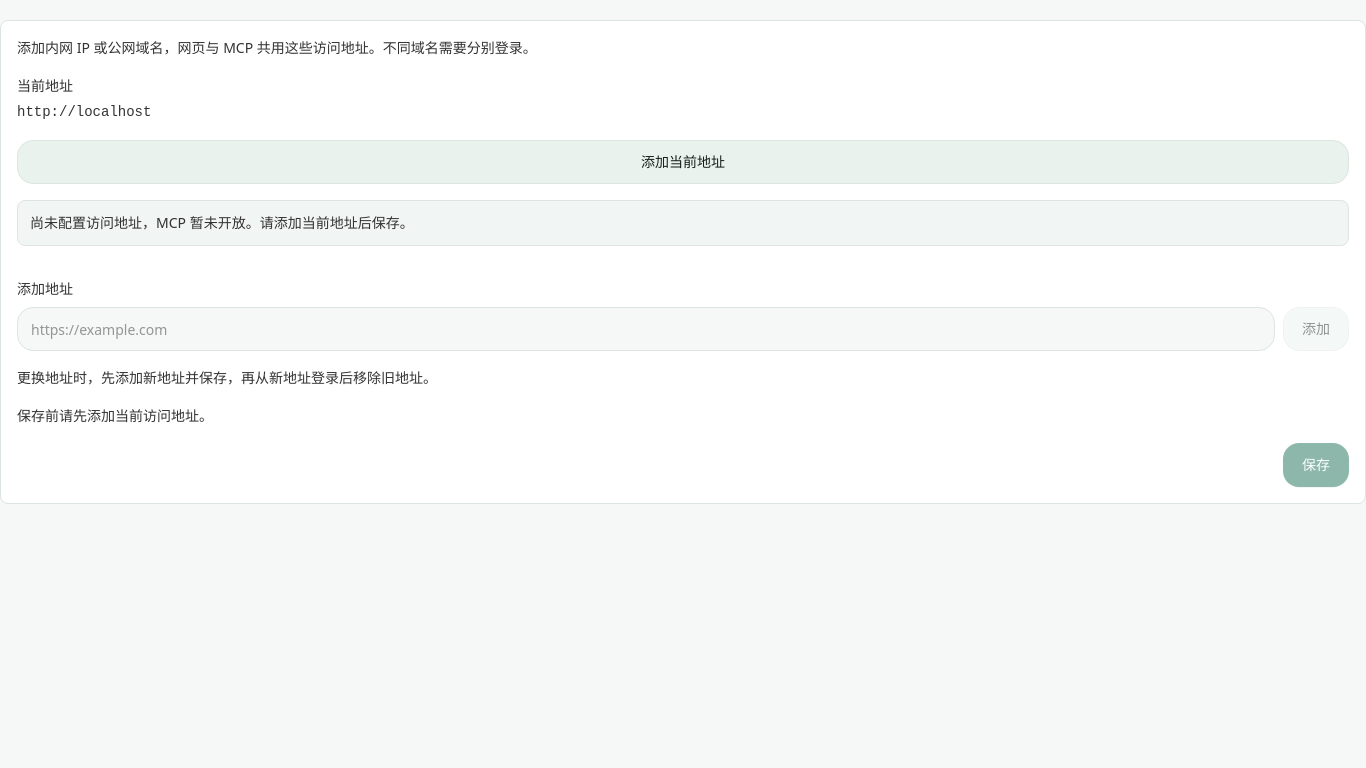
Scenario: 访问地址编辑 › 版本冲突不丢输入，显式重新载入后才替换草稿
The width and height of the screenshot is (1366, 768).
Click the button "添加当前地址".
click(683, 162)  # box [17,140,1349,184]
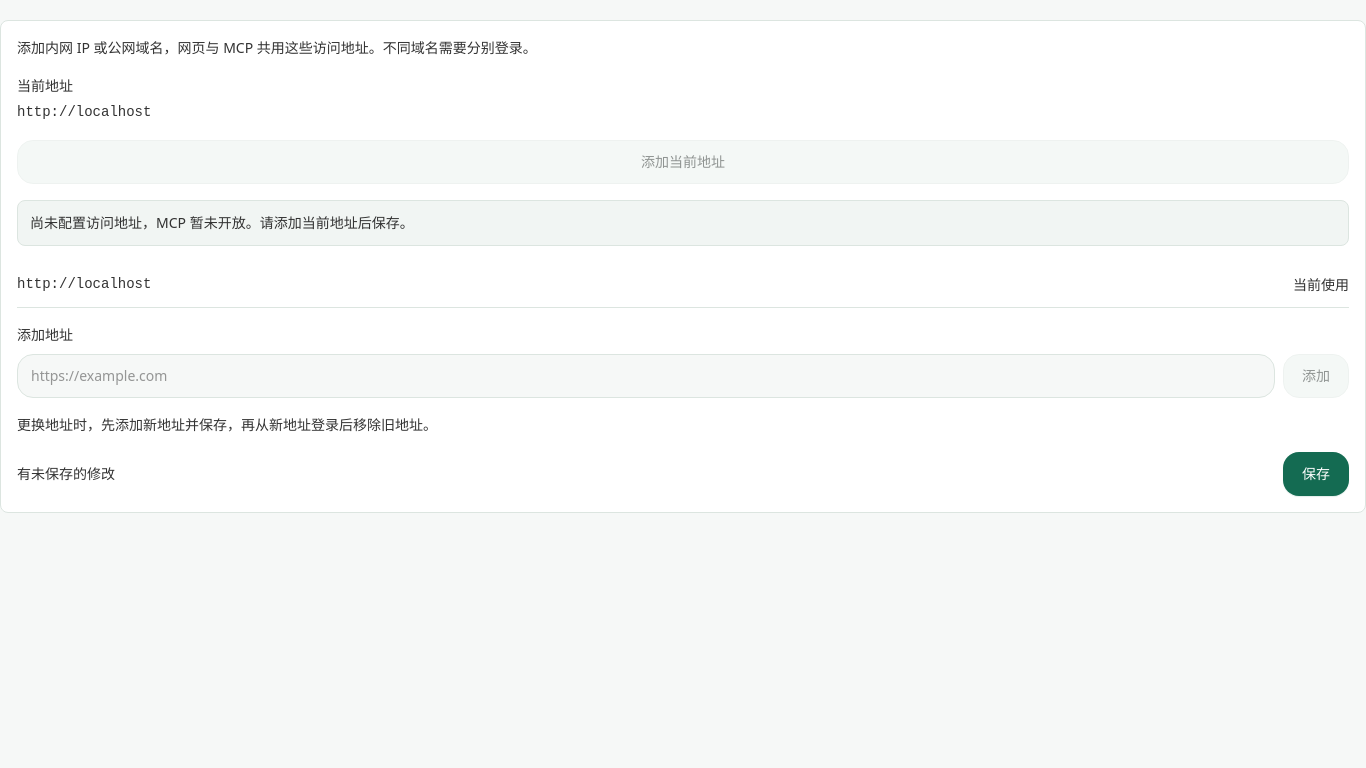
Type "https://draft.test" into the field labelled "添加地址".
click(646, 376); type("https://draft.test")  # box [17,354,1275,398]
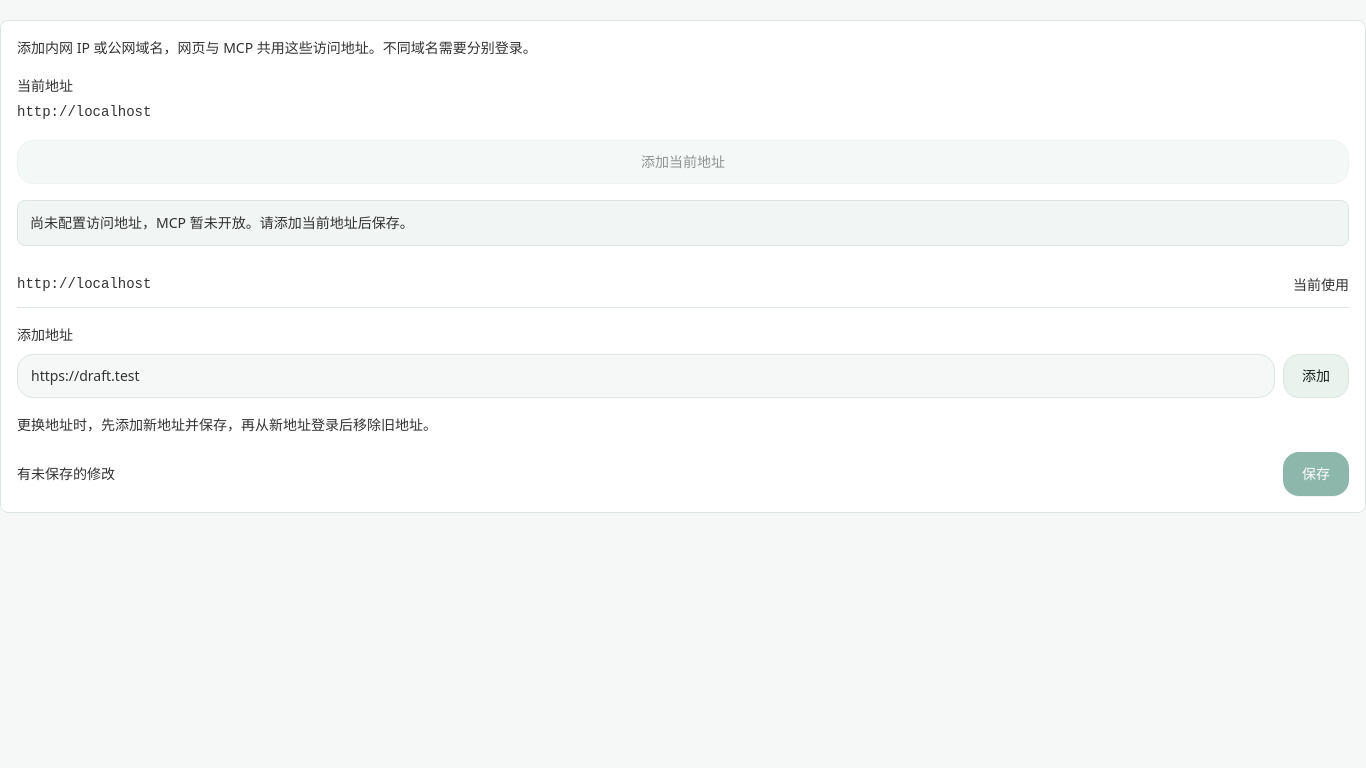
Click the button "添加".
click(1316, 376)  # box [1283,354,1349,398]
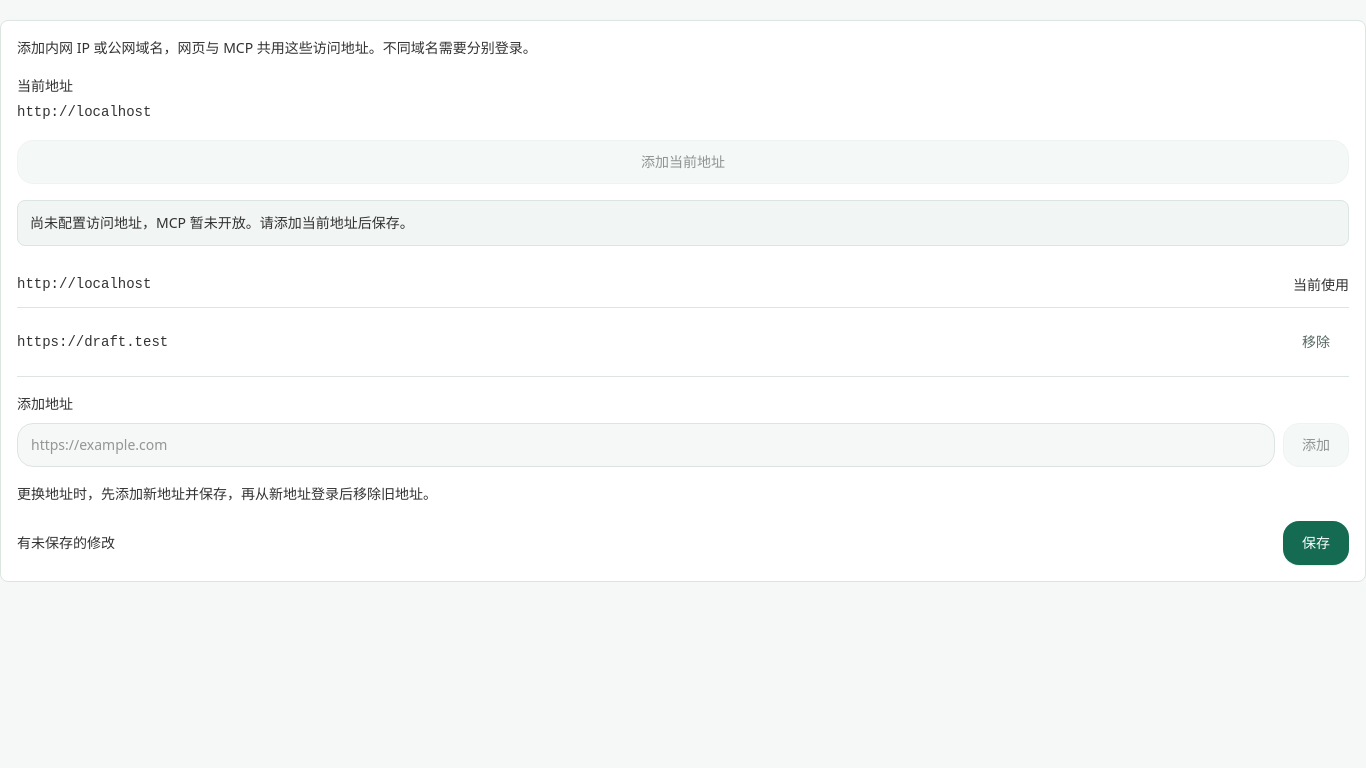
Click the button "保存".
click(1316, 543)  # box [1283,521,1349,565]
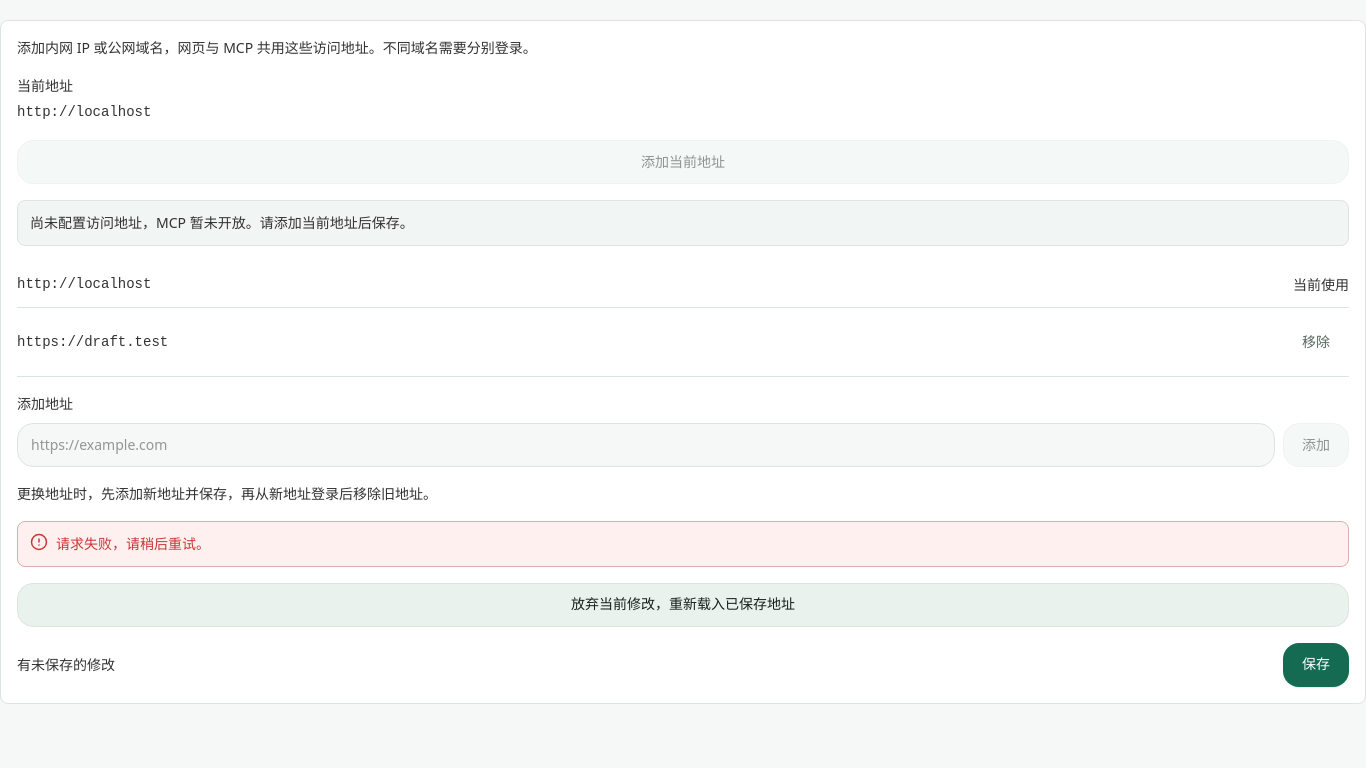
Check: the text "https://draft.test" is shown, box [17,332,168,353]
Check: the message "请求失败，请稍后重试。" is shown, box [17,521,1349,566]
Click the button "放弃当前修改，重新载入已保存地址".
click(683, 604)  # box [17,582,1349,626]
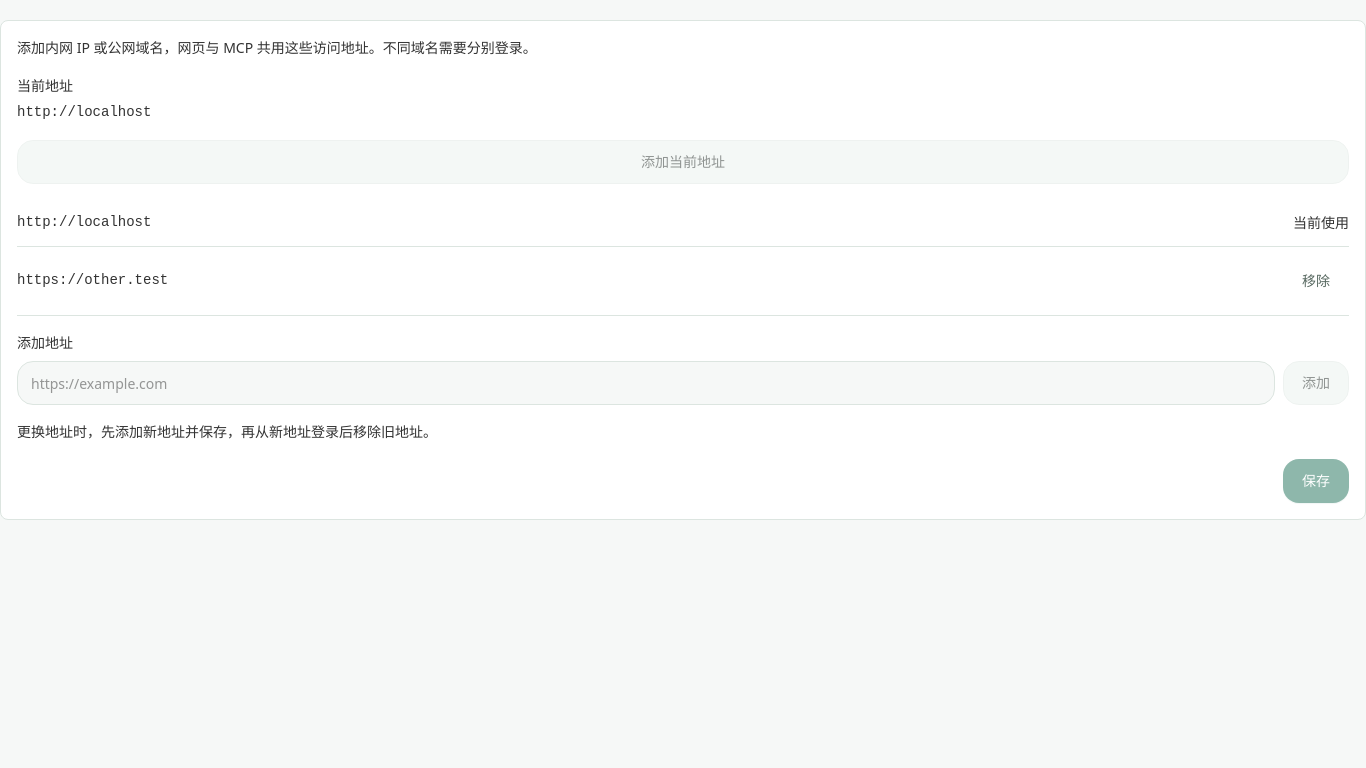
Check: the text "https://other.test" is shown, box [17,270,168,292]
Check: the text "https://draft.test" is gone
